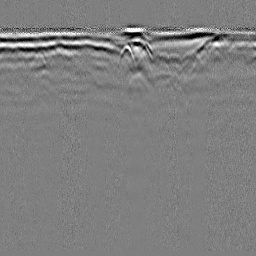cavity: (119, 42, 135, 62)
